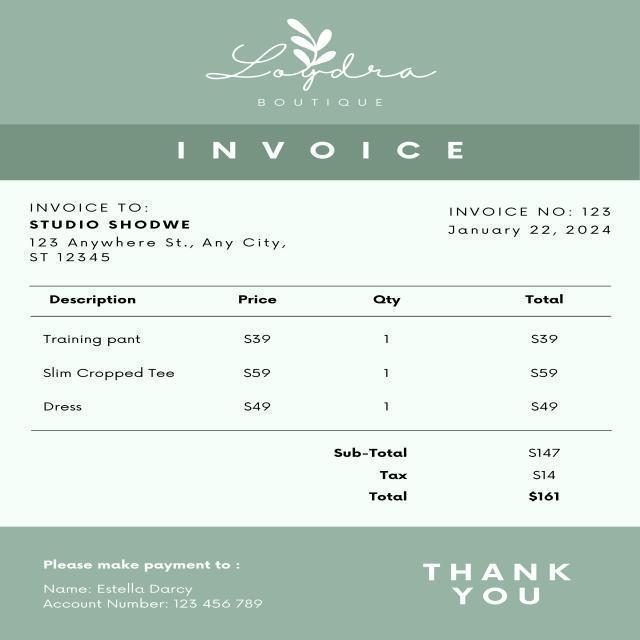paragraph: (19, 187, 303, 273), (201, 33, 449, 117), (321, 435, 582, 510), (36, 555, 269, 614), (165, 131, 470, 170), (437, 198, 621, 246), (418, 559, 575, 611)
table: (35, 283, 597, 425)
